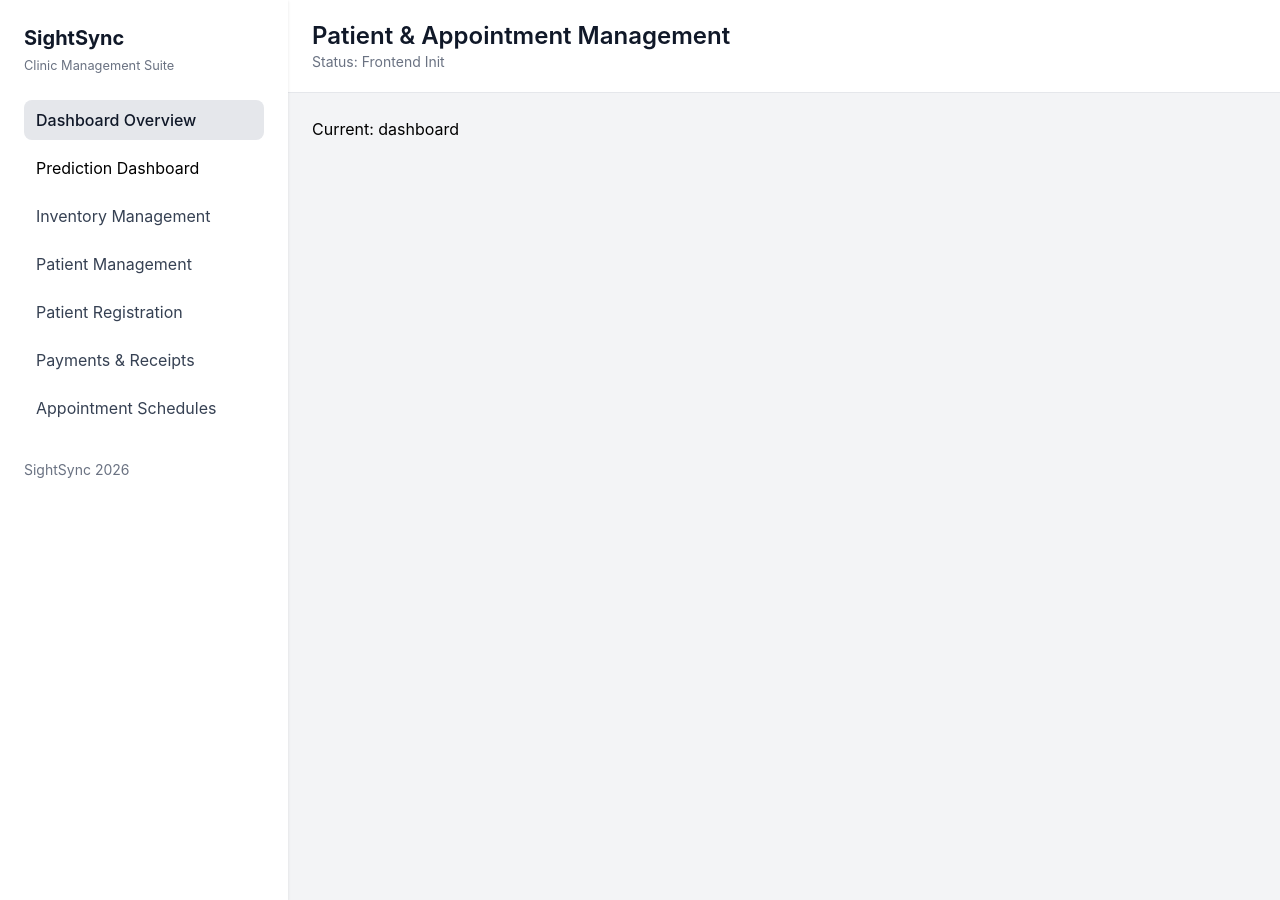
Test case: AppLayout Structural Framework › should allow alternating state selections seamlessly across multiple clicks
# Go to patients
Step 1. Click the button "Patient Management" → click(144, 264), box 24,244 -> 264,284
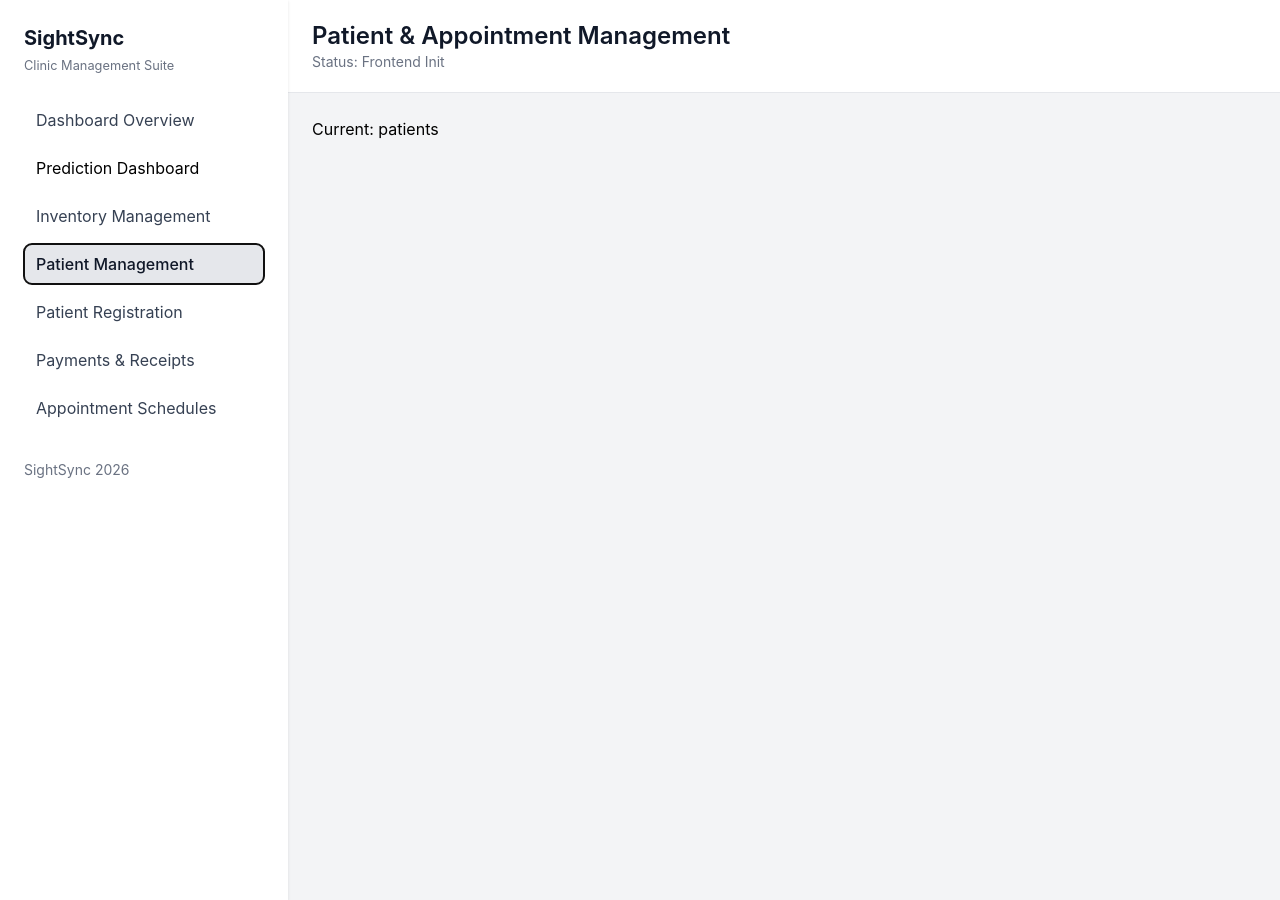
Expected: the text with test id "view-state" reads "Current: patients", 312,119 -> 439,139
# Go to appointments
Step 2. Click the button "Appointment Schedules" → click(144, 408), box 24,388 -> 264,428
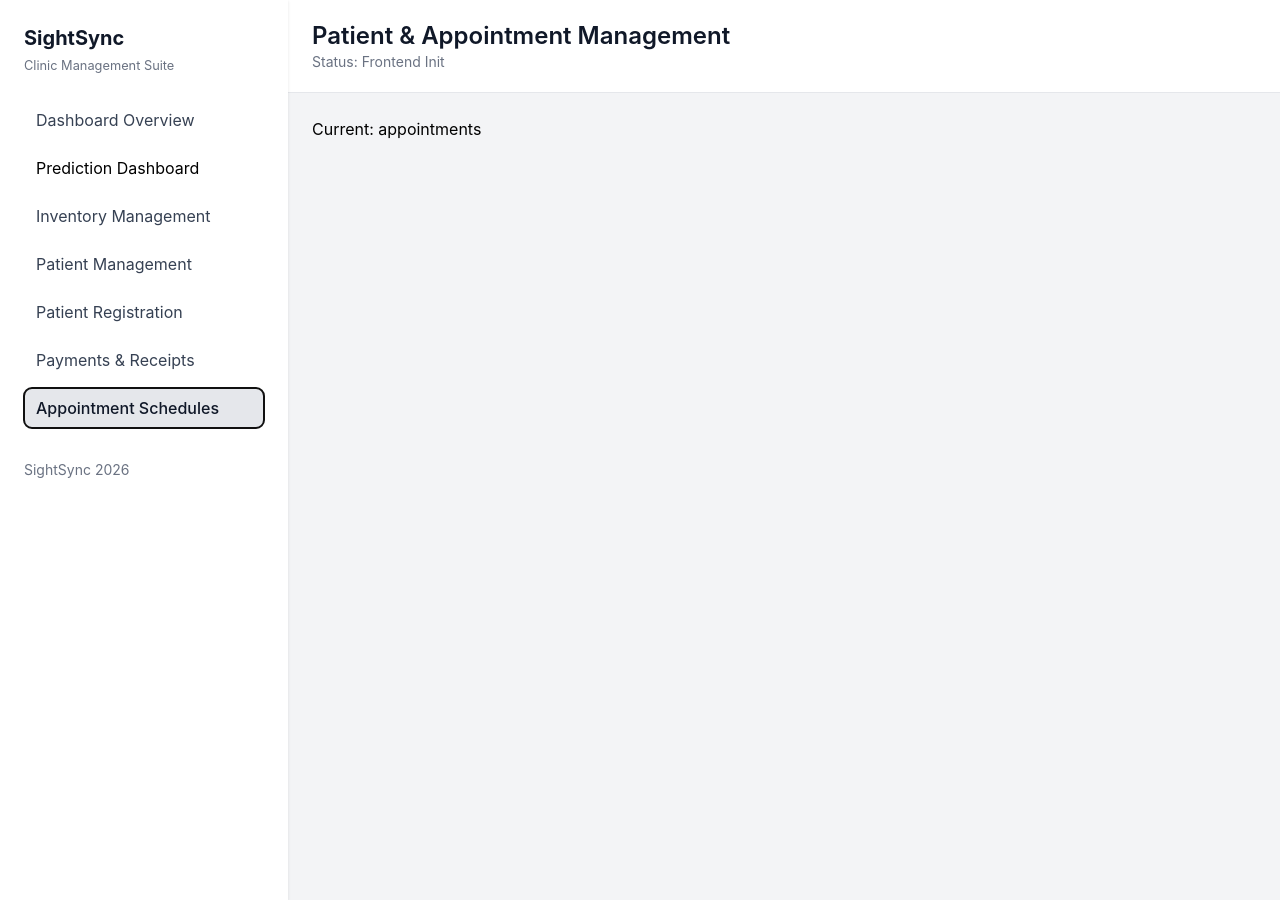
Expected: the text with test id "view-state" reads "Current: appointments", 312,119 -> 481,139
# Return back to dashboard
Step 3. Click the button "Dashboard Overview" → click(144, 120), box 24,100 -> 264,140
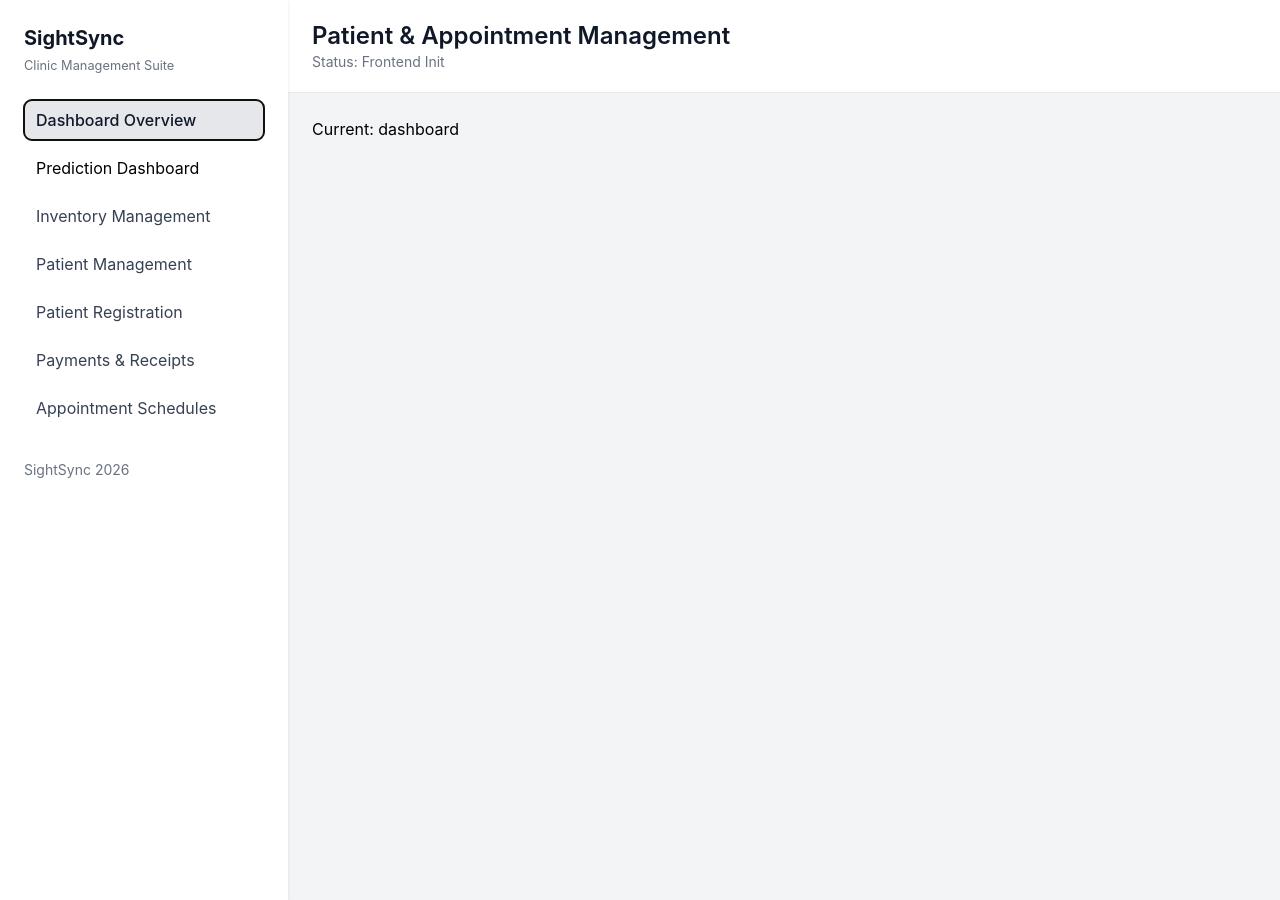
Expected: the text with test id "view-state" reads "Current: dashboard", 312,119 -> 459,139
